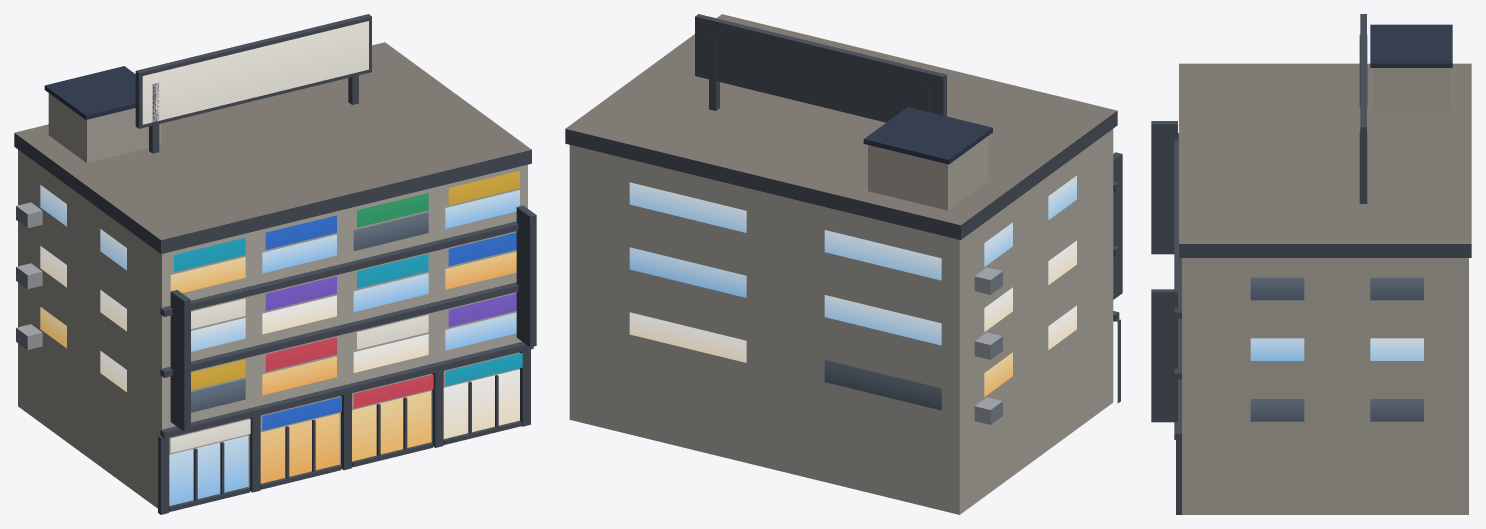
The model's file is bld_com_A_intact.meshopt.glb.
3 views of the same model, side by side, from view 1: azimuth 30°, elevation 25°; view 2: azimuth 150°, elevation 25°; view 3: azimuth 270°, elevation 25° (orthographic). The views are drawn at different scales.
Parts seen in each view (by area): view 1: bld_com_A_intact; view 2: bld_com_A_intact; view 3: bld_com_A_intact.
Boxes of the visible parts, left/top/right/bottom form: bld_com_A_intact: left=14, top=14, right=536, bottom=514; bld_com_A_intact: left=565, top=14, right=1122, bottom=514; bld_com_A_intact: left=1151, top=14, right=1471, bottom=514.
Bounding box in the file's own units: 23.08 × 20.5 × 16.75.
